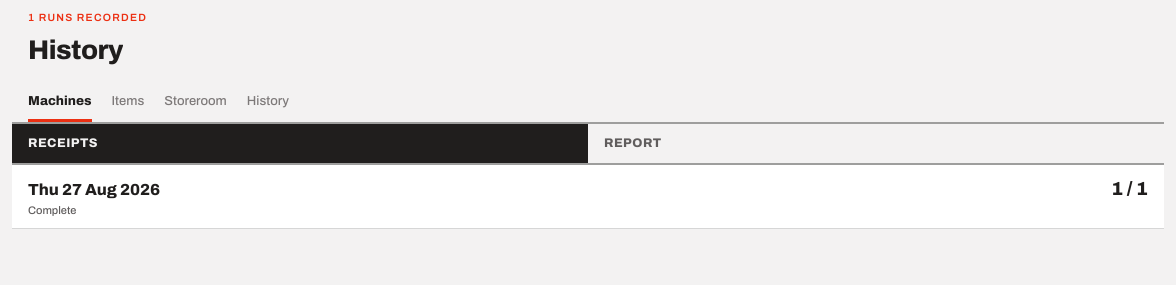
Test: HistoryScreen › drills from a run to a machine to the numbers recorded
Step 1. Click the button with aria-label "run 2026-08-27" → (94, 189), box [12,164,1164,228]
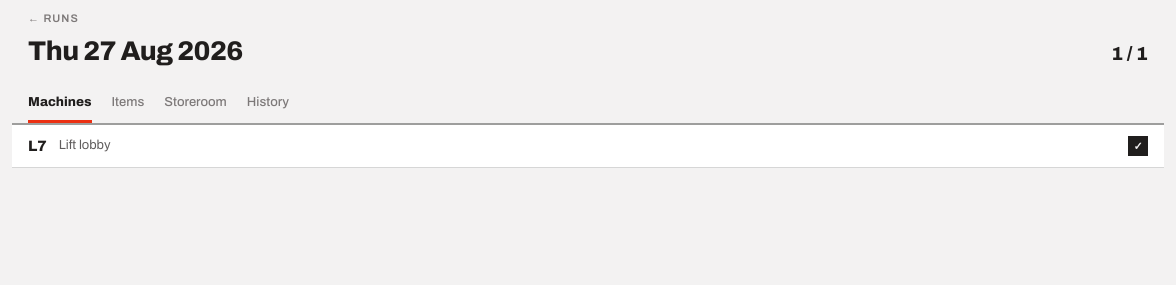
Step 2. Click the button with aria-label "visit to L7" → (85, 145), box [12,124,1164,167]
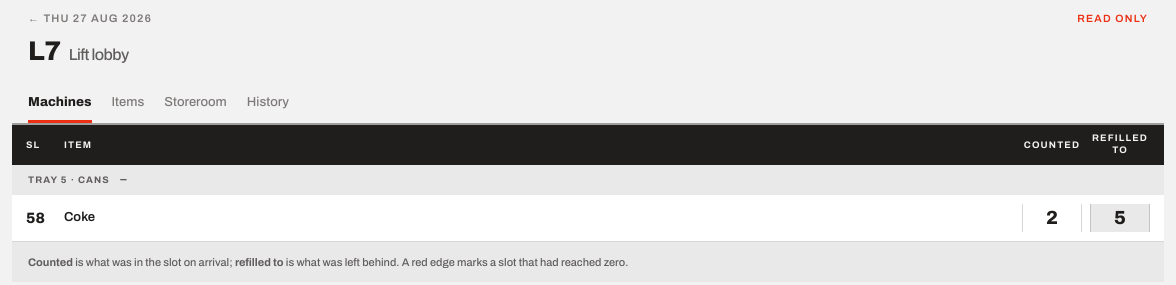
Expected: the list item with aria-label "slot 58 record" shows "Coke", [64,210,95,224]
Expected: the list item with aria-label "slot 58 record" shows "2", [1046,206,1058,228]
Expected: the list item with aria-label "slot 58 record" shows "5", [1114,206,1126,228]
